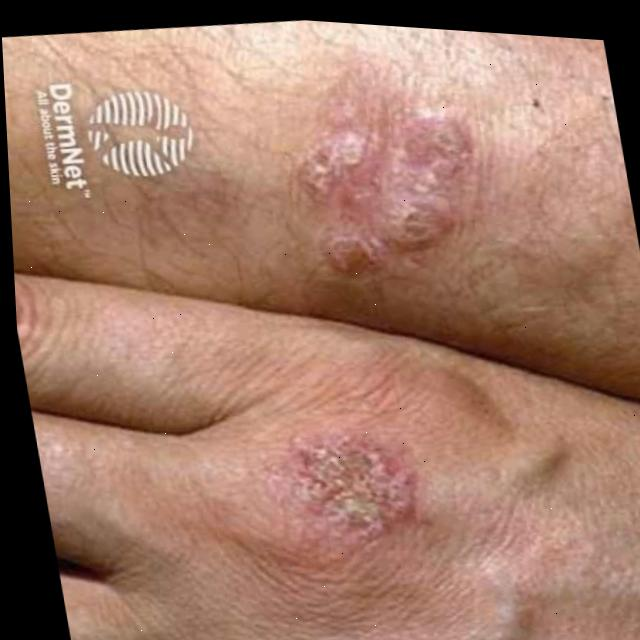Eczema: (326, 129, 475, 257), (311, 427, 433, 525)
